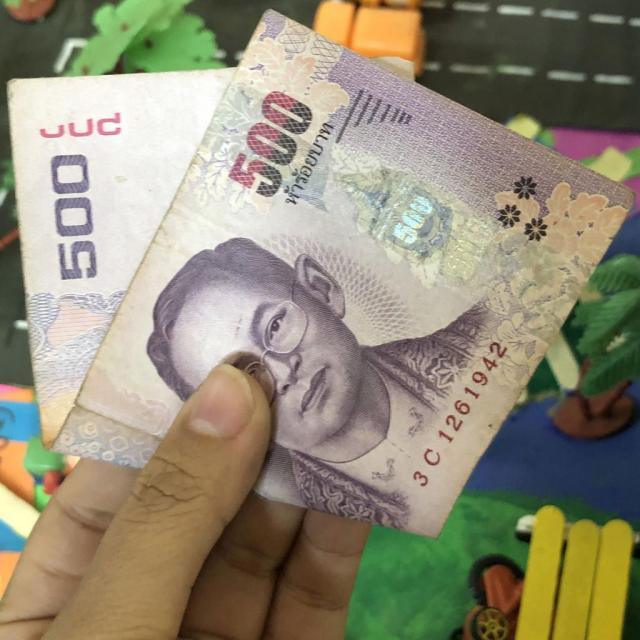THAI500: (7, 12, 632, 539)
